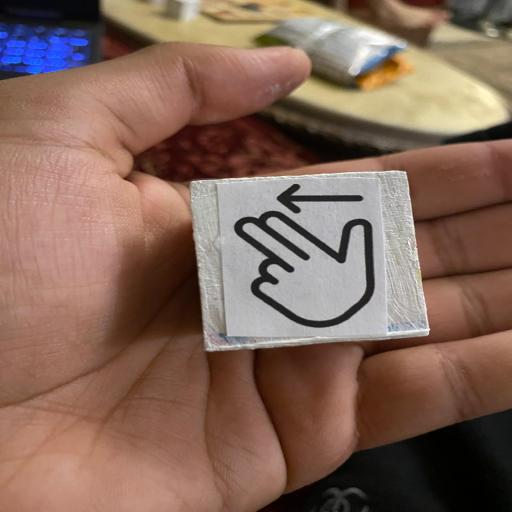LeftSwipe: (190, 168, 428, 352)
